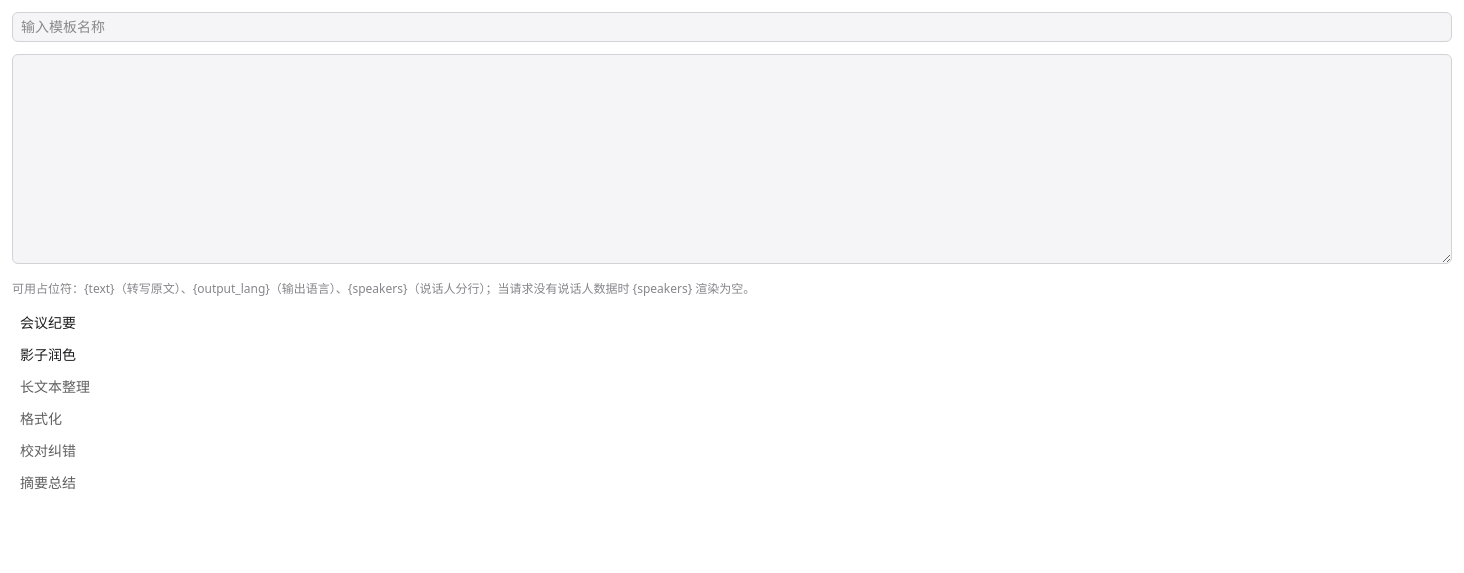
Test: [20260912_Feat_242_TemplateSystem] TemplatesSection › shows restore-default for a built-in mode that has a custom override
Click the button with test id "template-entry-optimize" at (48, 354), box left=12, top=341, right=1452, bottom=369
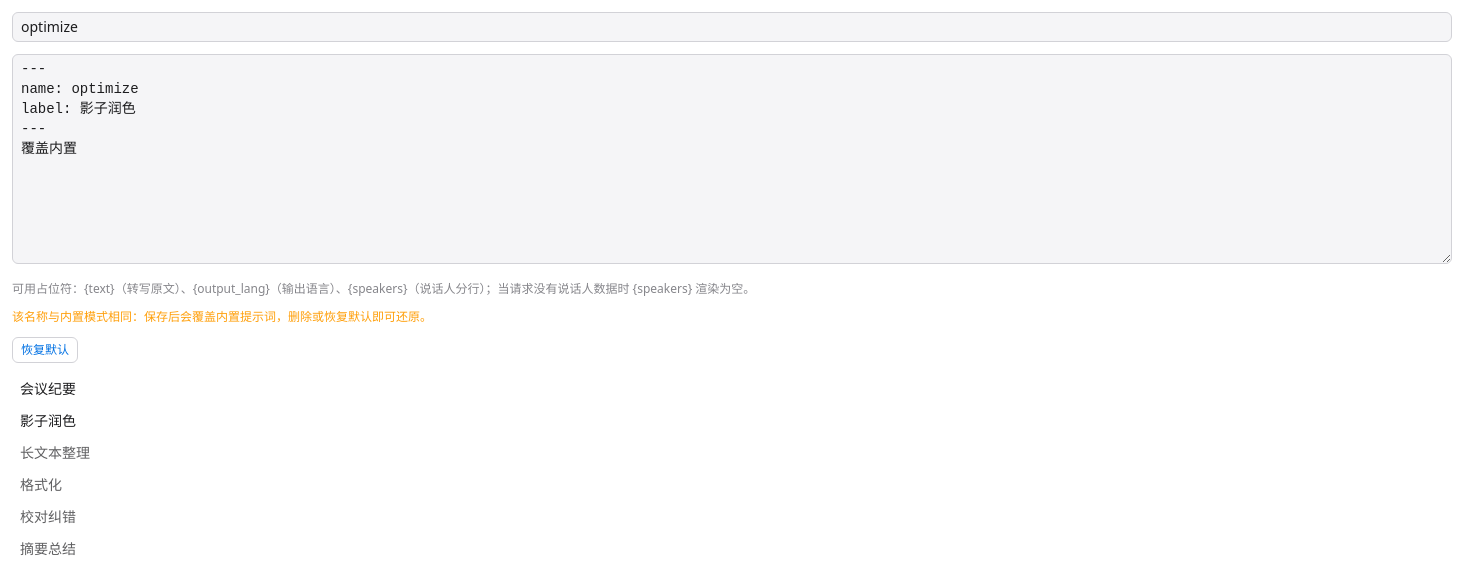
Check: the button with test id "template-restore-default" is shown, box left=12, top=337, right=78, bottom=363
